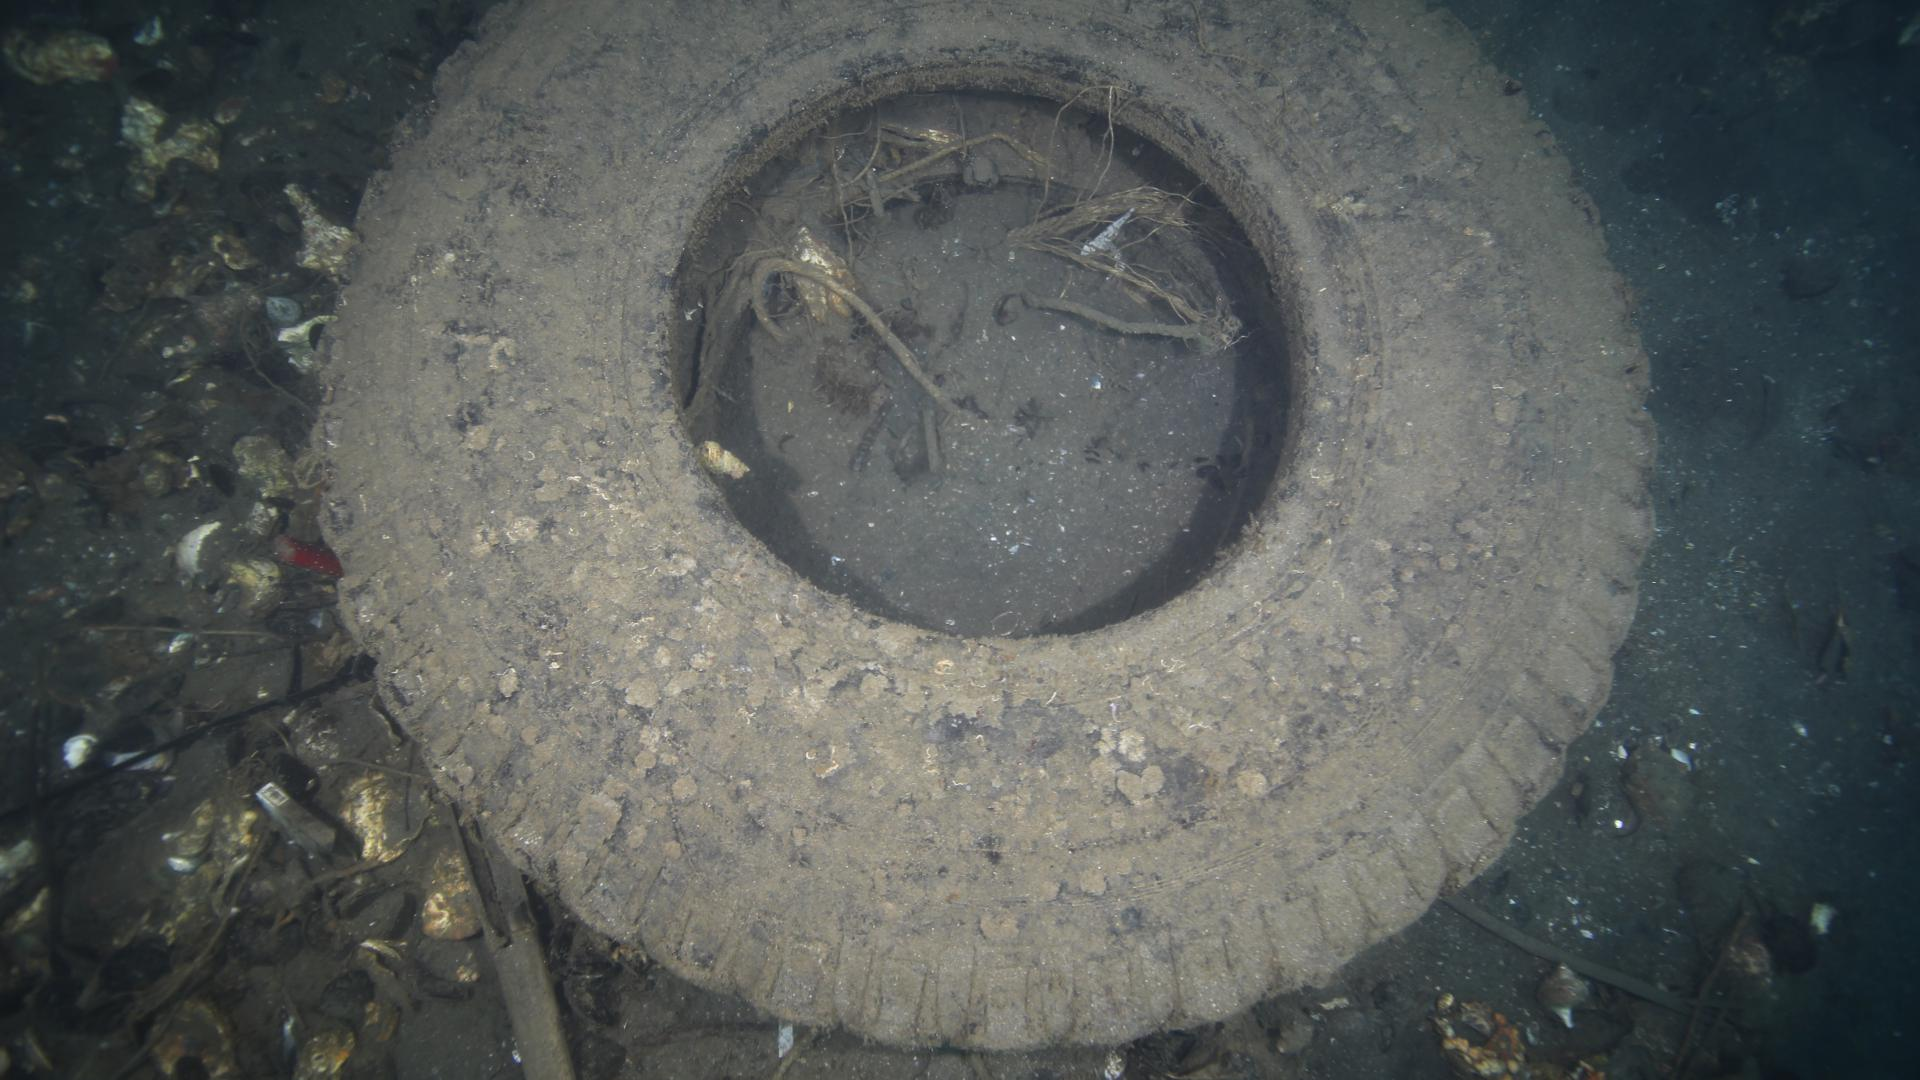tire: (301, 12, 1654, 1054)
